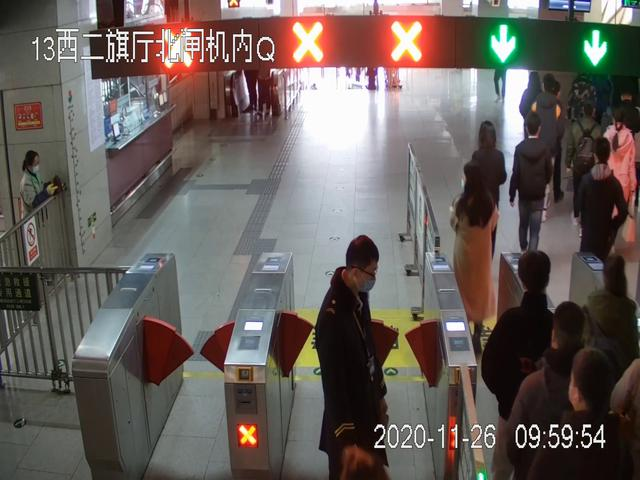person: (510, 303, 624, 480), (314, 235, 394, 479), (481, 251, 563, 480), (575, 257, 640, 480), (449, 161, 502, 353), (509, 114, 554, 262), (575, 137, 627, 260), (471, 121, 509, 259), (18, 149, 61, 268), (604, 105, 639, 249), (567, 104, 605, 227), (530, 72, 563, 203)
